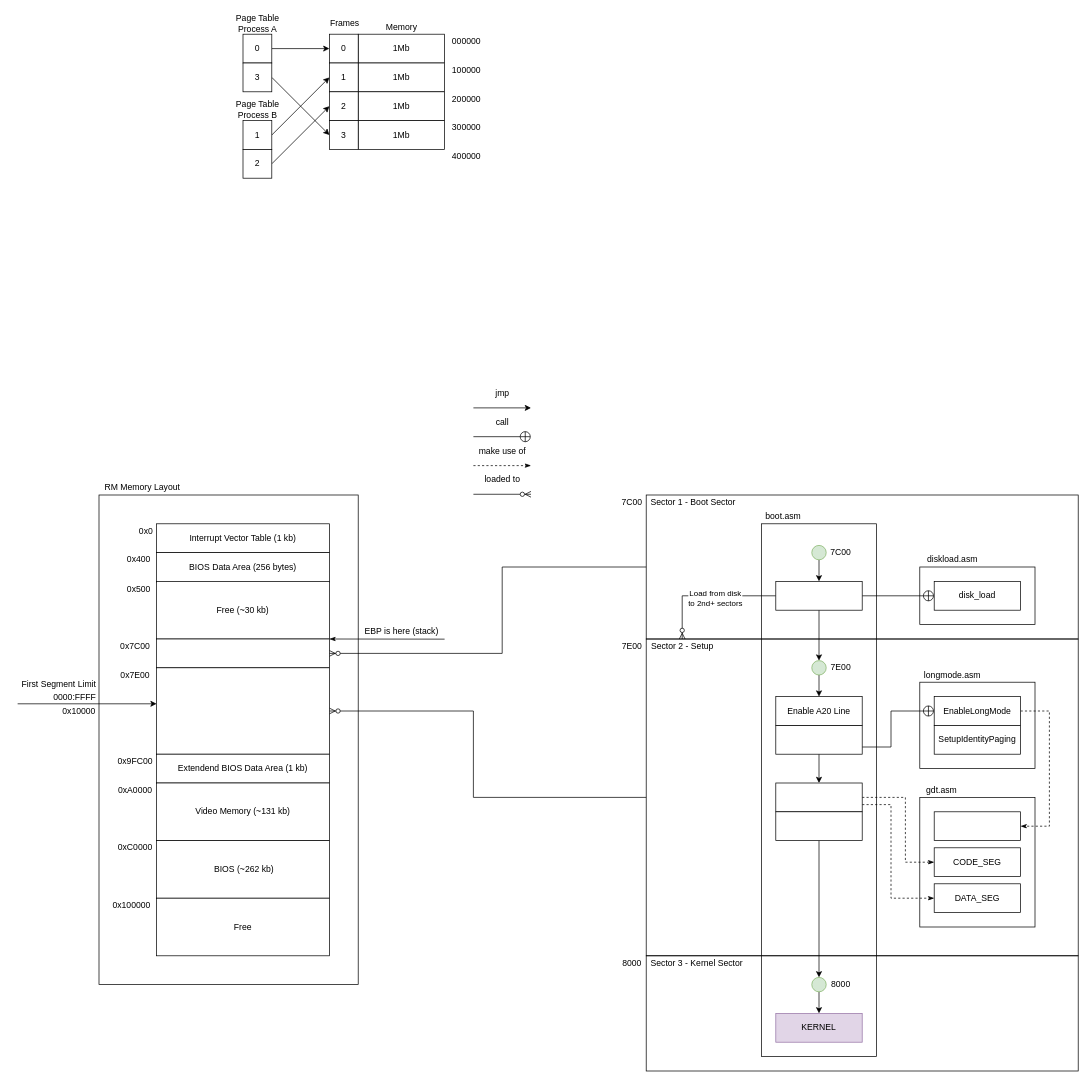
The diagram is 1091 pixels wide and 1084 high, and some of its shapes have lost their labels. Each missing label, with the box of its shape:
Boot Sector (512 bytes): (156, 638, 329, 668)
Enable LM: (775, 725, 862, 754)
Free (~622 kb): (156, 667, 329, 754)
gdt_descriptor: (933, 811, 1021, 841)
Load Disk: (775, 581, 862, 610)
LongMode: (775, 782, 862, 812)
Setup: (775, 811, 862, 841)
